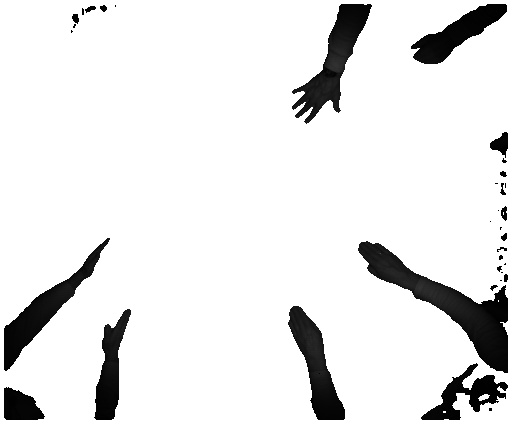hand: (289, 75, 343, 127), (359, 240, 415, 288), (288, 304, 327, 356), (408, 35, 452, 63)
spine: (70, 232, 111, 288), (102, 304, 135, 358)
